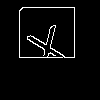X: (25, 25, 74, 80)
